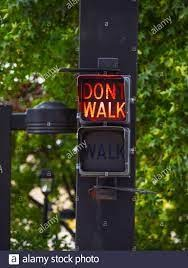pedestrian_stop: (77, 76, 130, 124)
